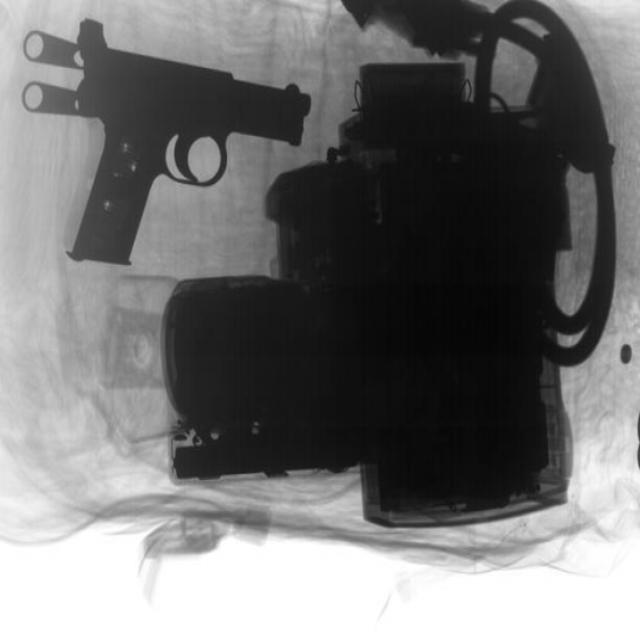GUN: (12, 42, 348, 264)
